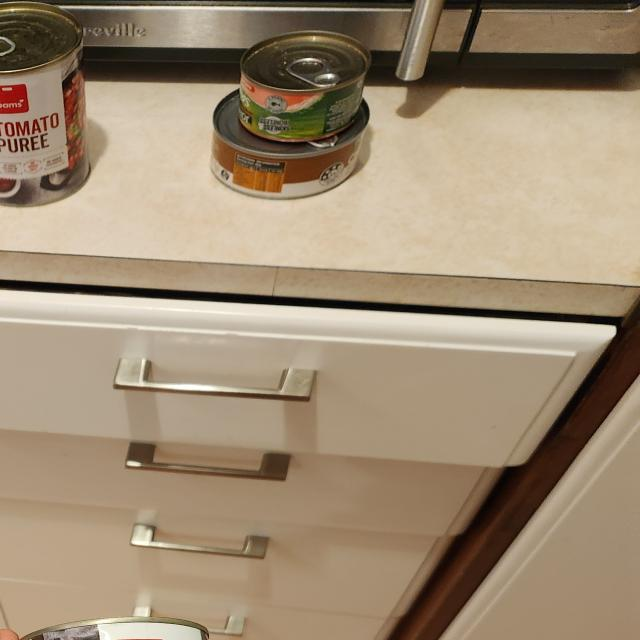black beans: (13, 614, 246, 640)
